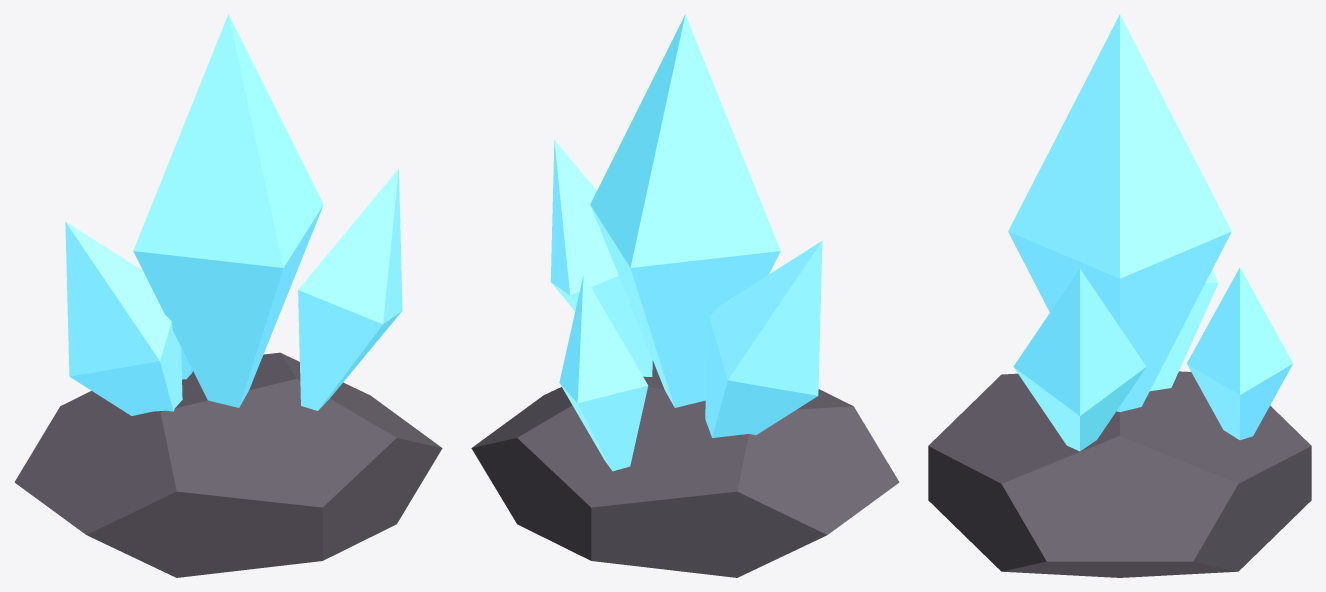
3 renders of one model, left to right at view 1: azimuth 30°, elevation 25°; view 2: azimuth 150°, elevation 25°; view 3: azimuth 270°, elevation 25°, orthographic.
Bounding box in the file's own units: 1.57 × 2.19 × 1.44.
